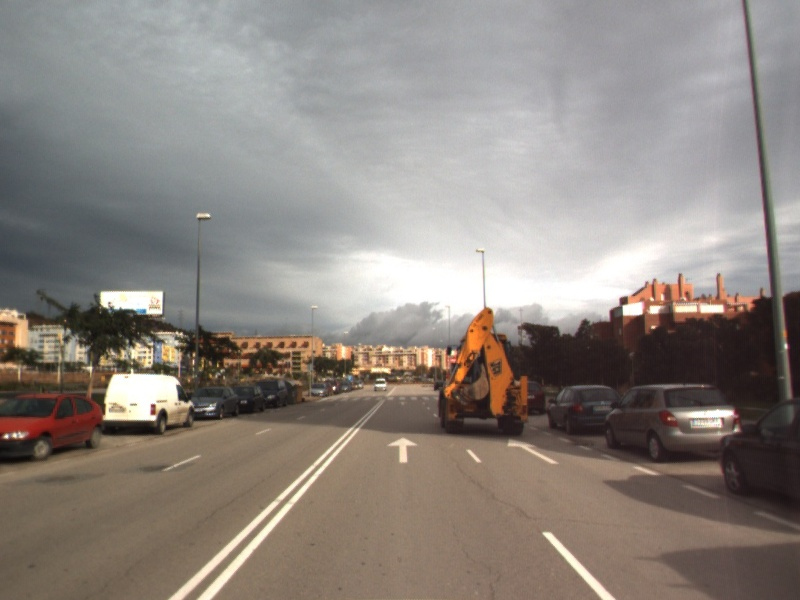STRAIGHT: (505, 436, 561, 466), (385, 435, 420, 464)
